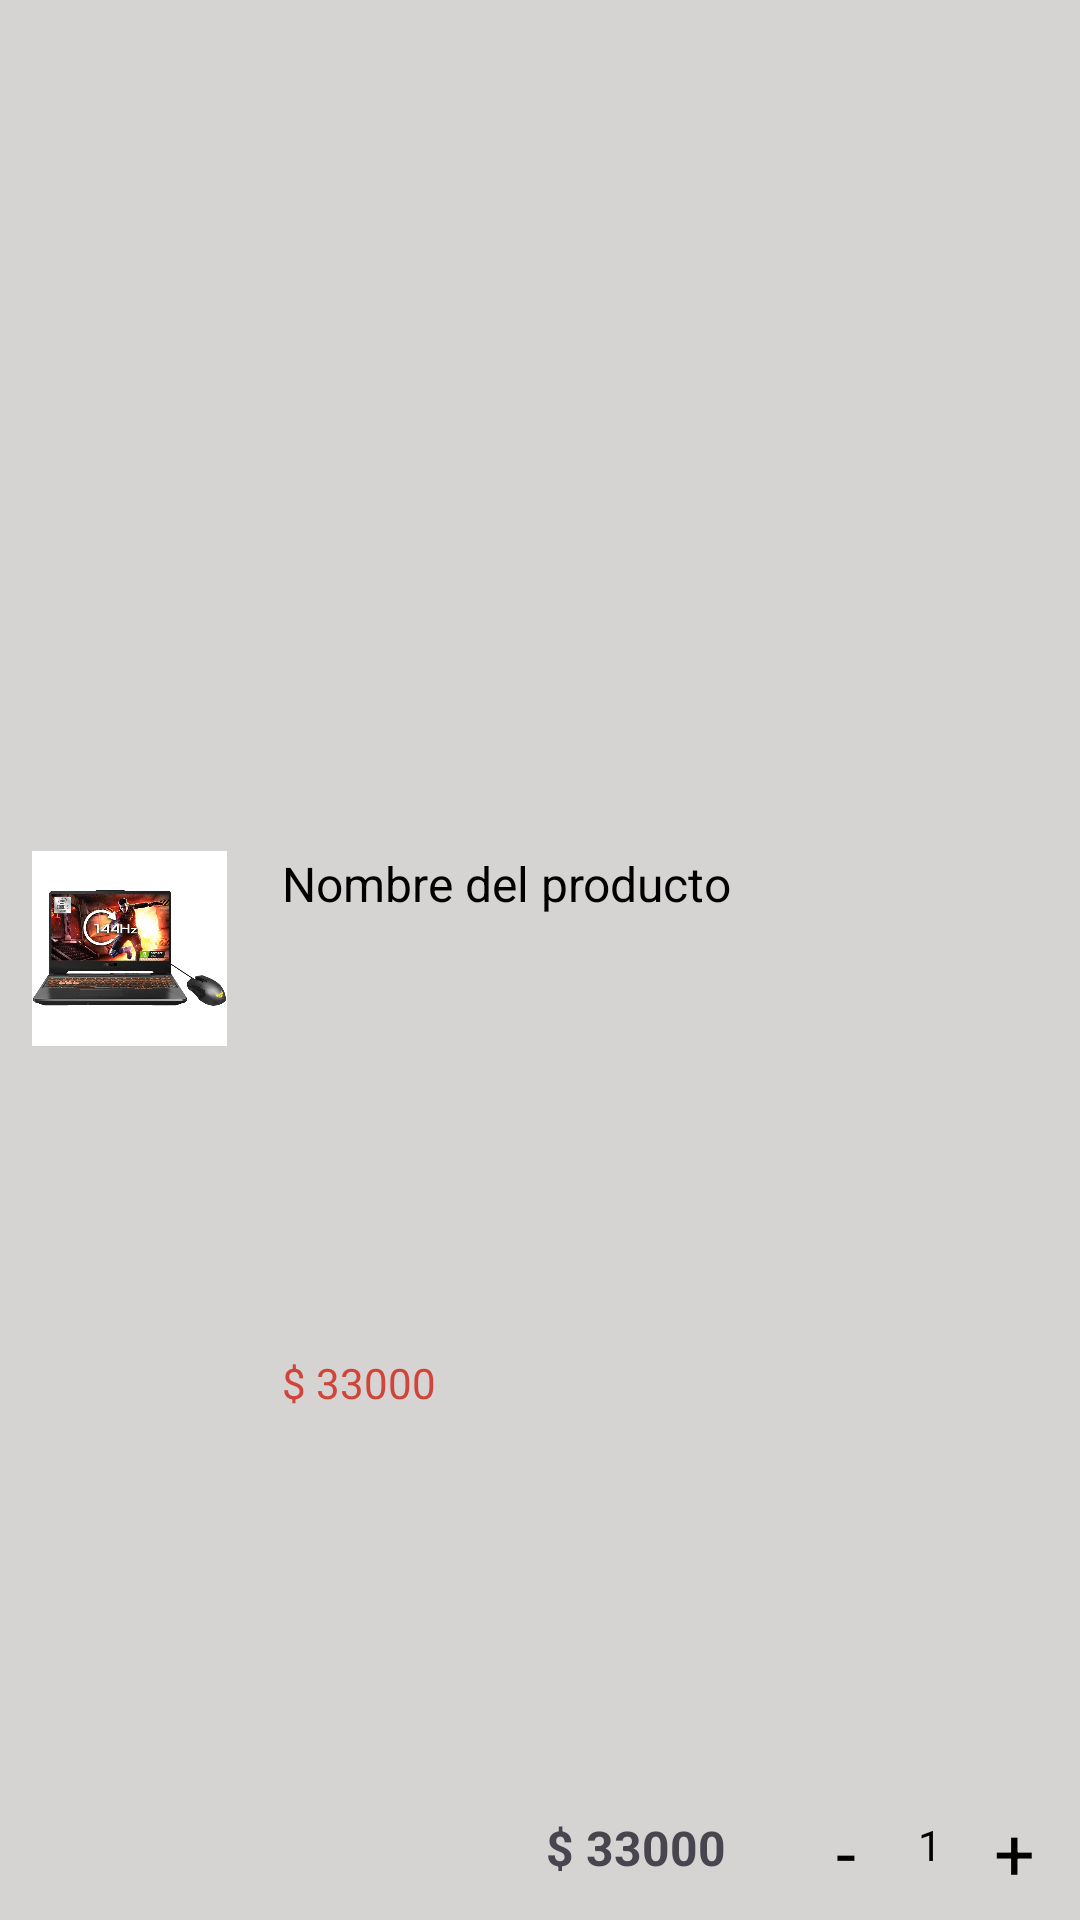

Named icons in this screenshot (1080 × 1920) and their bounding boxes, {"x1": x1, "y1": y1, "x2": x2, "y2": y2}:
laptopasus: {"x1": 32, "y1": 851, "x2": 227, "y2": 1046}
